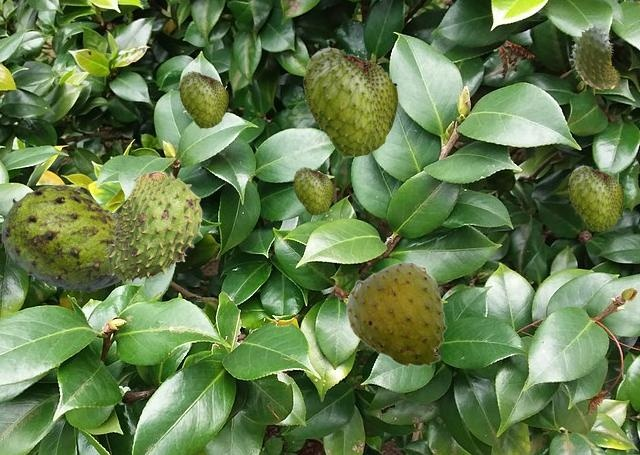guyabano: (0, 184, 120, 291), (103, 171, 202, 282), (344, 261, 446, 368), (303, 45, 397, 156), (568, 164, 623, 230), (569, 24, 619, 94), (179, 70, 227, 127), (293, 166, 333, 214)
